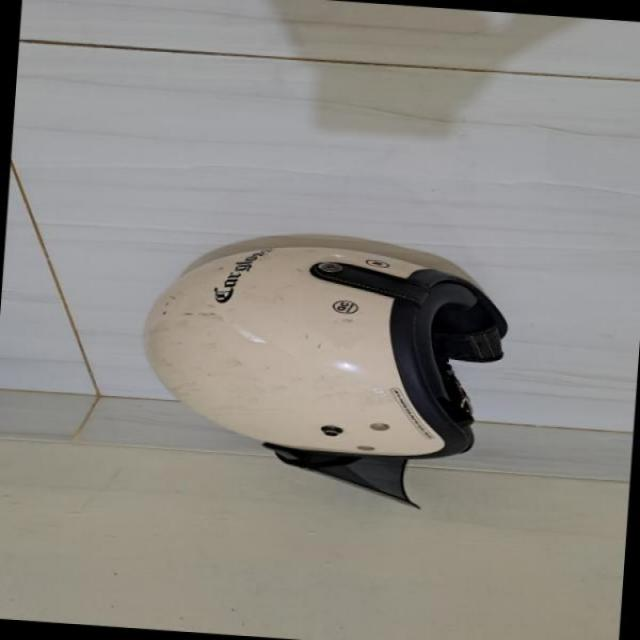Helmet: (137, 224, 508, 489)
